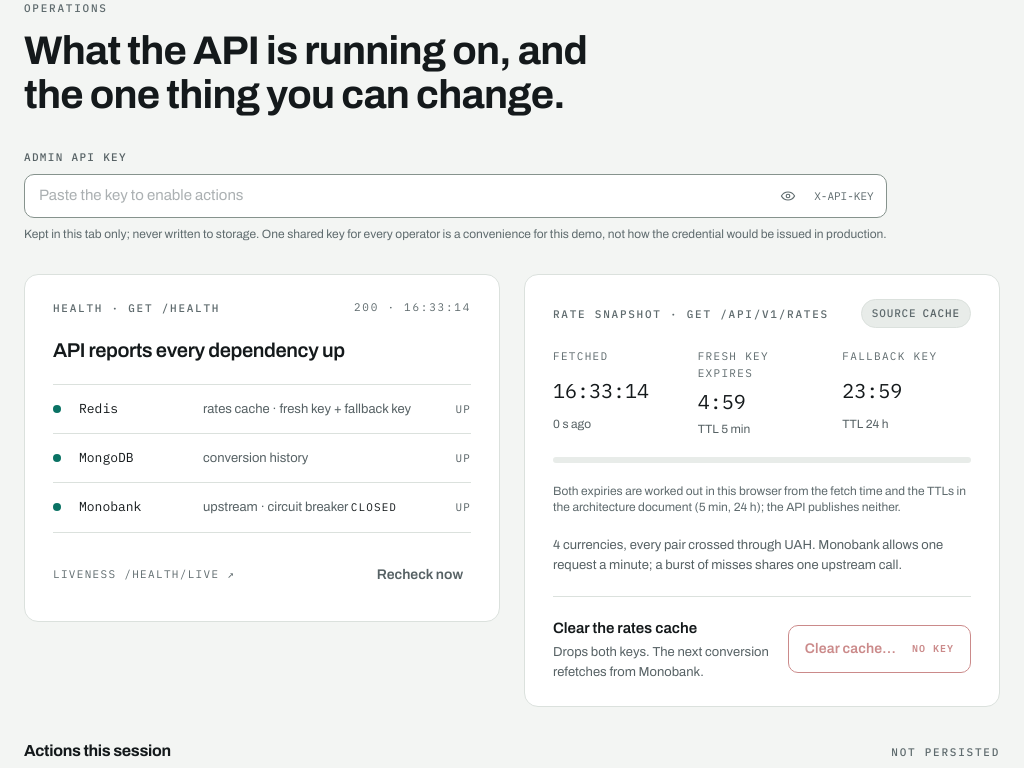
OpsPage clear-cache dialog › sends nothing when it is dismissed with Escape
Type "super-secret-admin-key" into the password field labelled "Admin API key" at (401, 196), box [39,175,762,217]
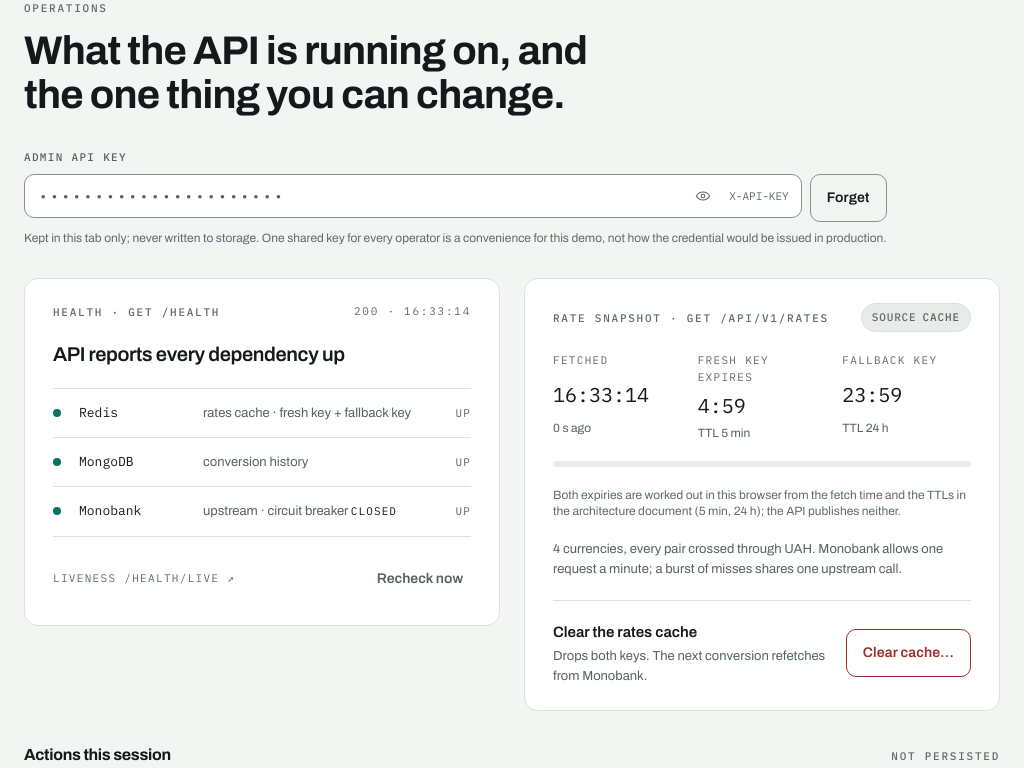
Click the button "Clear cache…" at (908, 653), box [846,629,971,677]
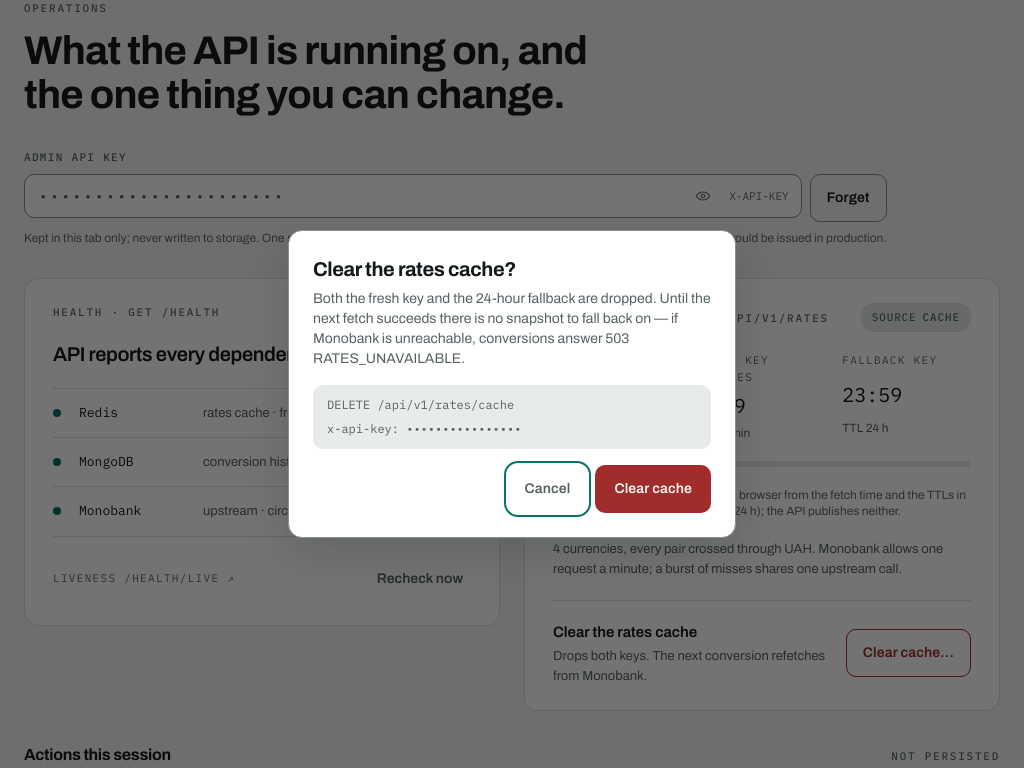
Press Escape
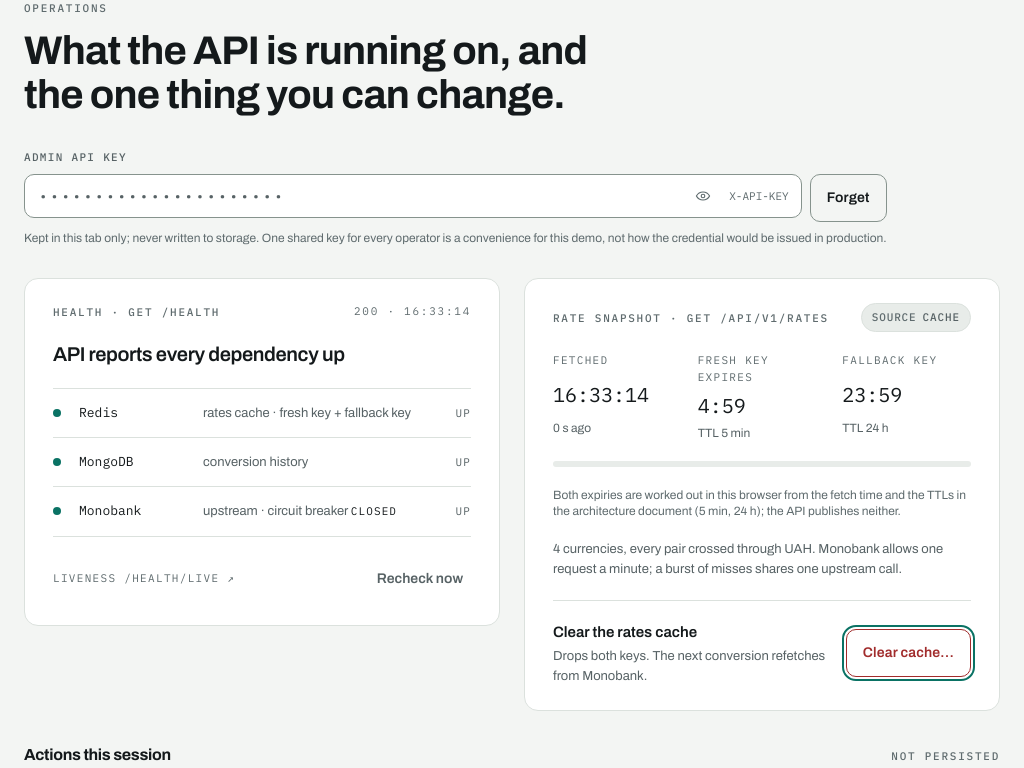
Expected: the dialog is gone
